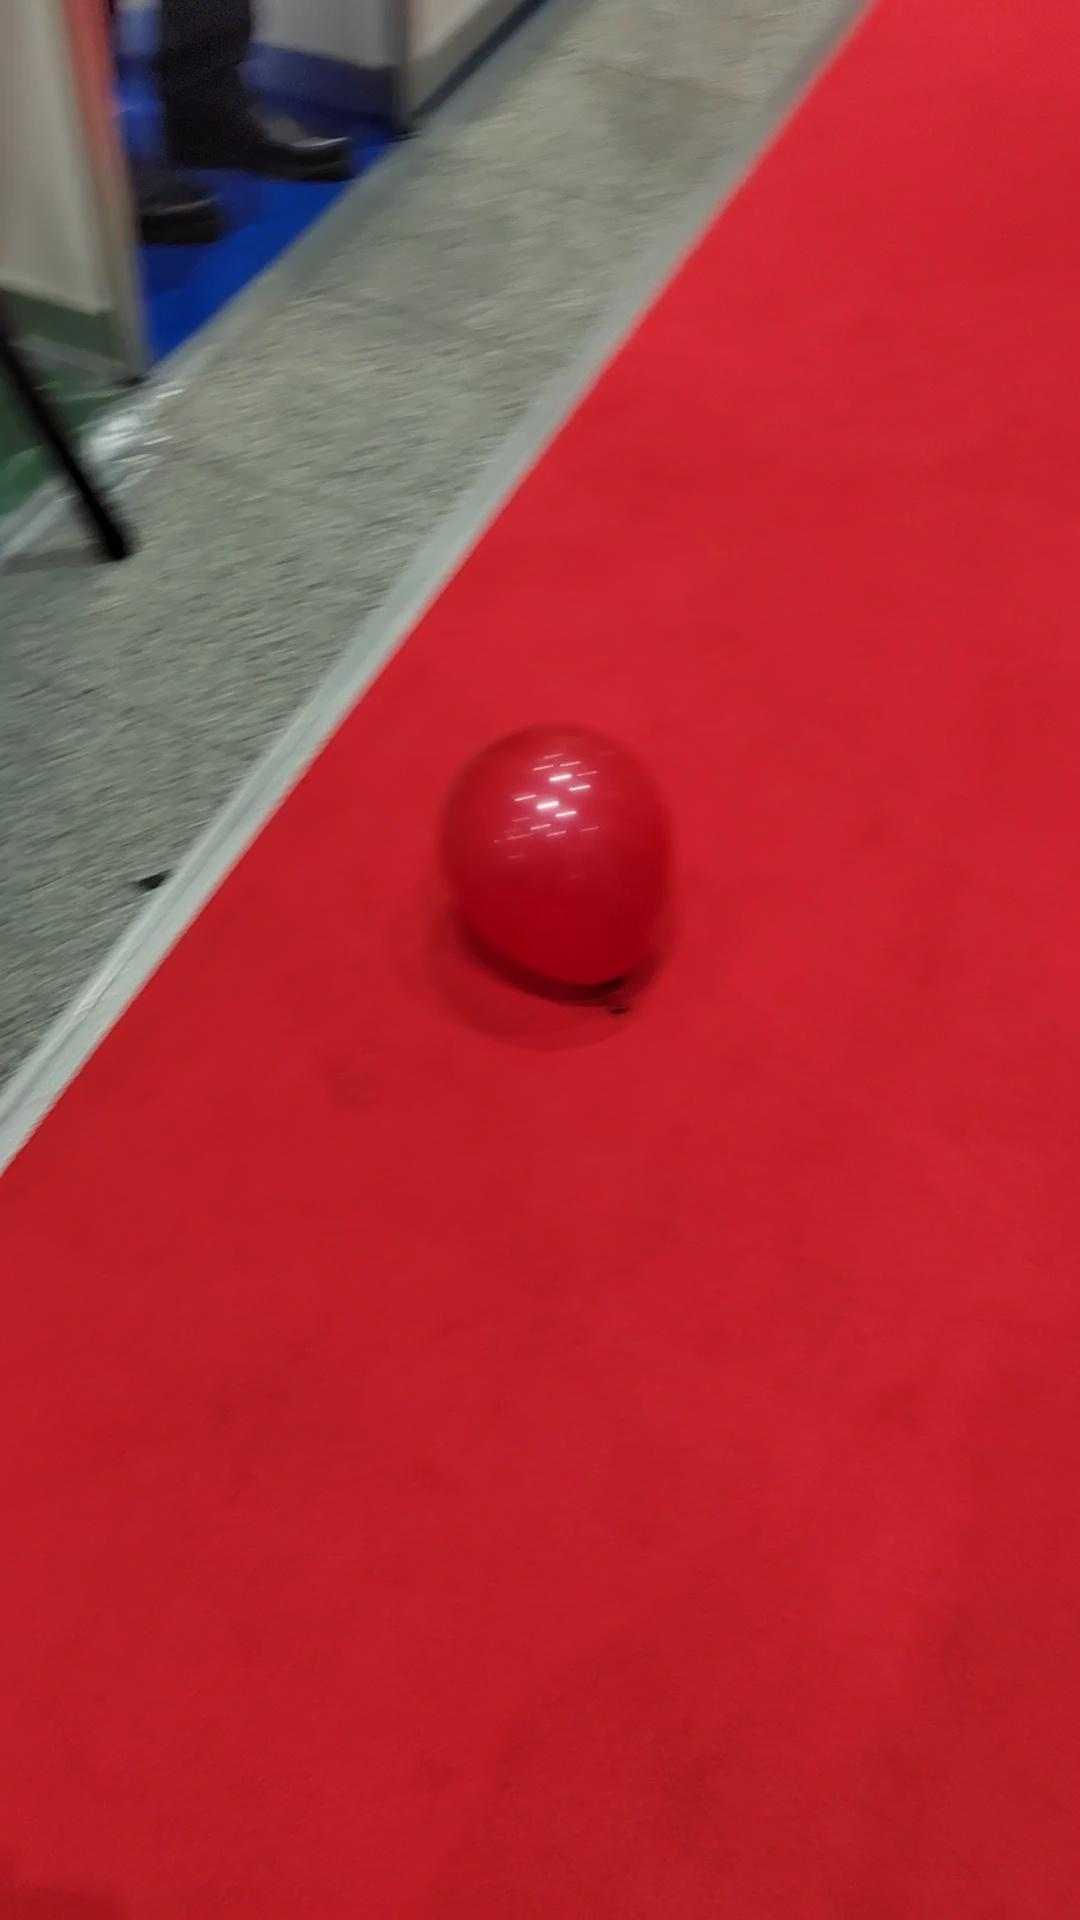red: (442, 721, 668, 986)
